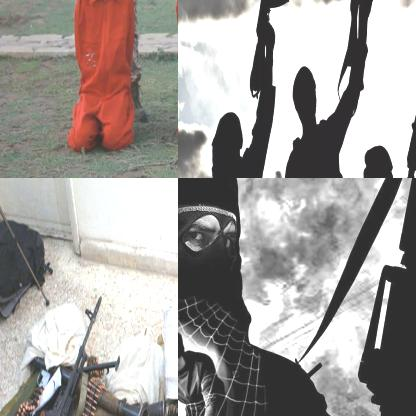rifle: (0, 293, 123, 415), (364, 178, 415, 415), (36, 354, 151, 415), (245, 0, 291, 96), (338, 0, 386, 87), (393, 46, 415, 177)
